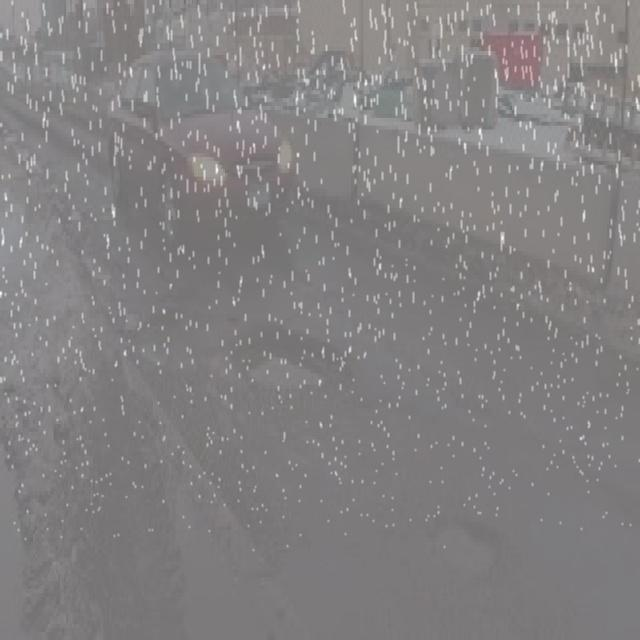Pothole: (206, 302, 336, 404), (407, 508, 517, 564)
